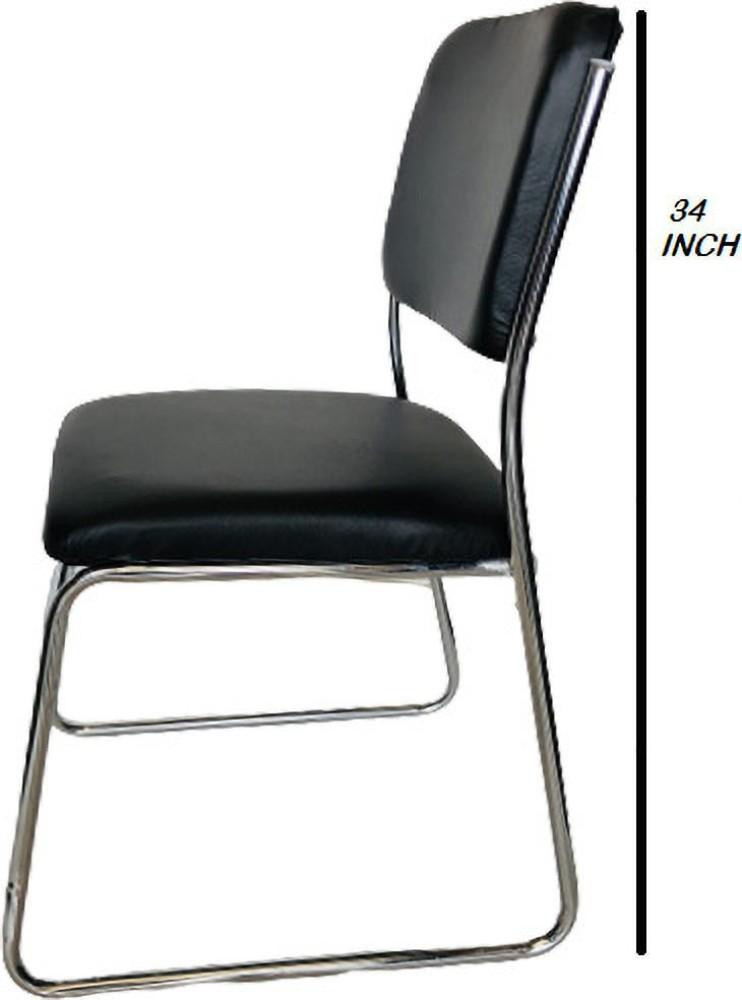chair: (5, 10, 619, 995)
